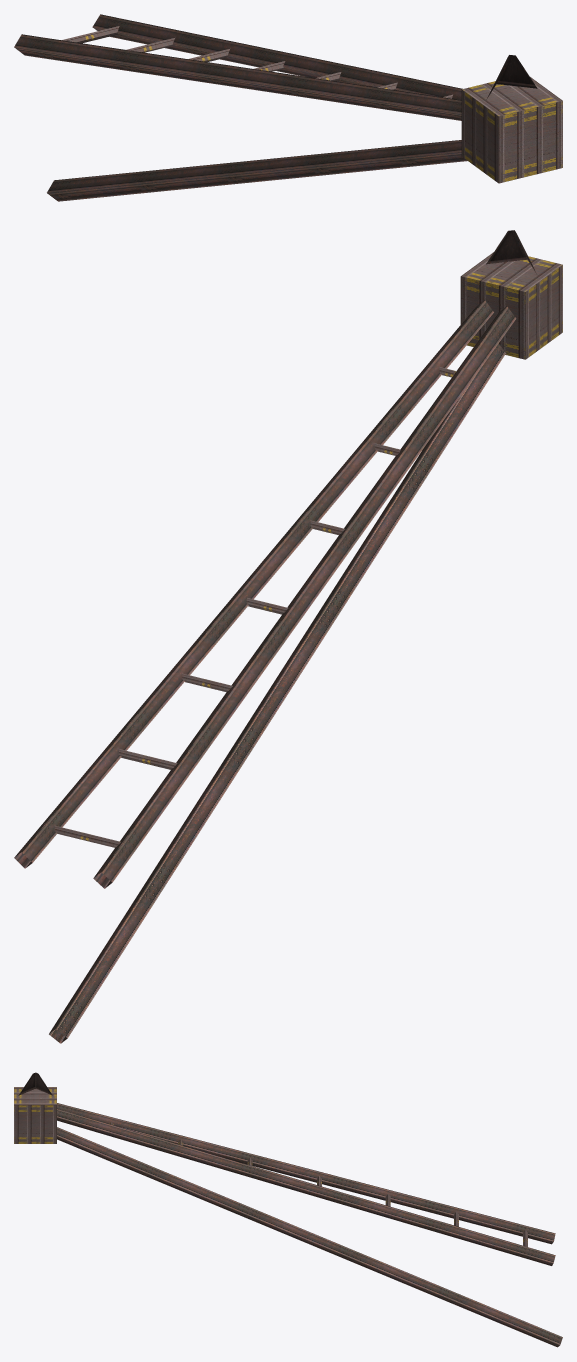
The model's file is OPLT03.glb.
The picture shows the model from 3 angles, top to bottom: view 1: azimuth 30°, elevation 25°; view 2: azimuth 150°, elevation 25°; view 3: azimuth 270°, elevation 25°; orthographic projection. The views are drawn at different scales.
Parts seen in each view (by area): view 1: _OPLT03; view 2: _OPLT03; view 3: _OPLT03.
Part boxes in pixels (x1,y1,x2,y2): _OPLT03: (14, 14, 562, 201); _OPLT03: (14, 230, 562, 1043); _OPLT03: (14, 1072, 562, 1347).
Size of the model in its own units: 2.56 by 11.86 by 21.48.
2 materials, 2 textured.
